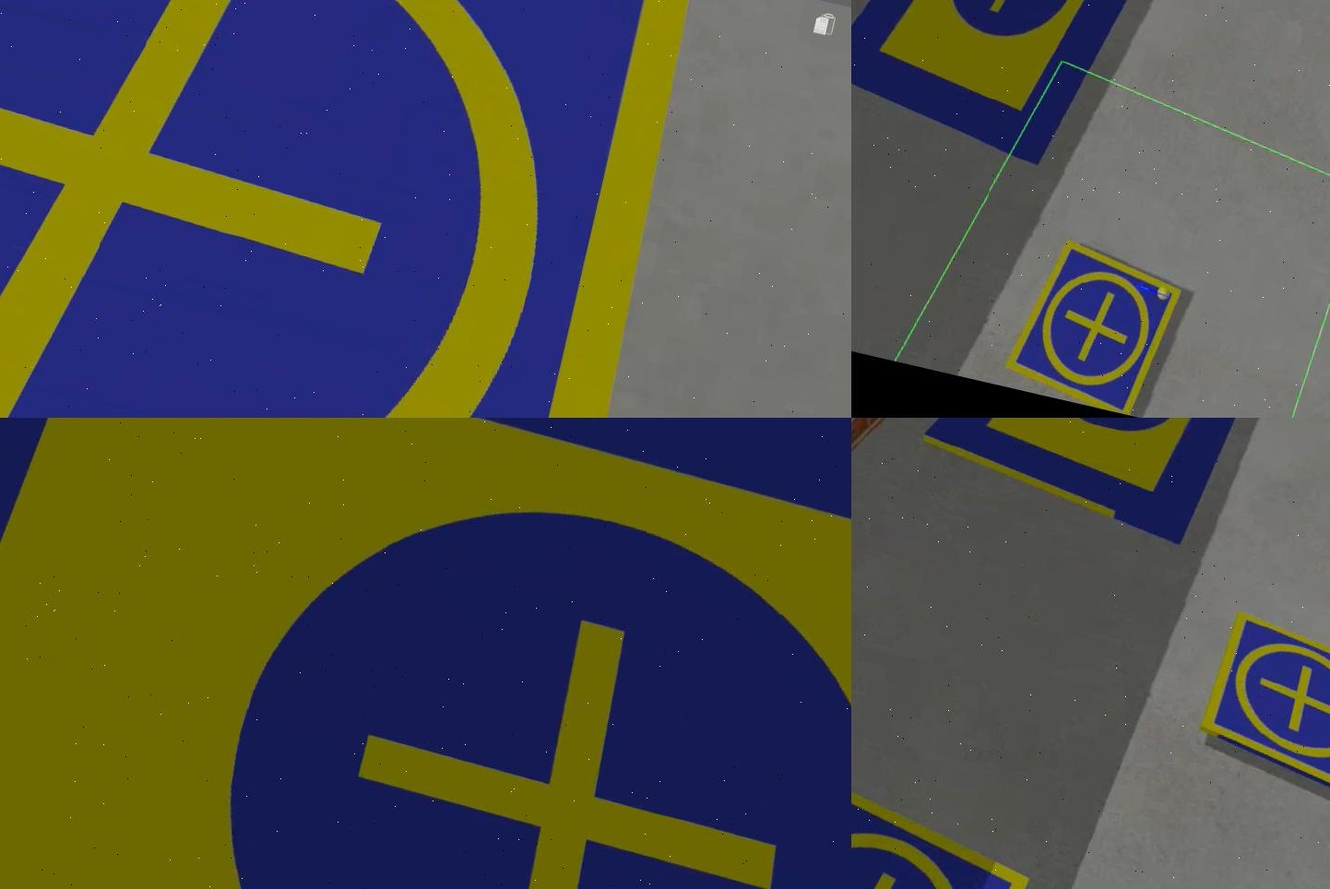large_base: (0, 419, 850, 889), (850, 1, 1190, 180), (909, 419, 1250, 553)
small_base: (0, 1, 734, 419), (998, 232, 1187, 419), (1187, 605, 1328, 809), (850, 747, 1044, 889)
